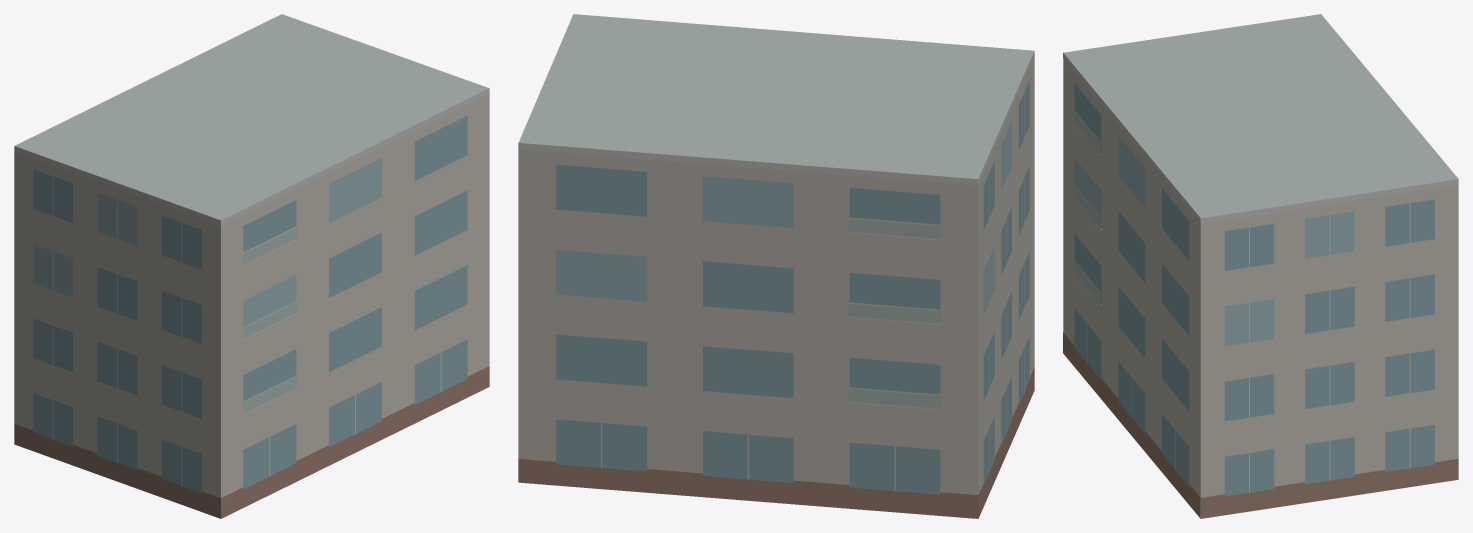
File: survey-upis-32799319.glb
3 views of the same model, side by side, from view 1: azimuth 30°, elevation 25°; view 2: azimuth 150°, elevation 25°; view 3: azimuth 270°, elevation 25° (orthographic). The views are drawn at different scales.
Visible parts, largest first — view 1: survey-upis-32799319.tmp; view 2: survey-upis-32799319.tmp; view 3: survey-upis-32799319.tmp.
Part boxes in pixels (bbox=[...]): survey-upis-32799319.tmp: bbox=[14, 14, 489, 518]; survey-upis-32799319.tmp: bbox=[518, 14, 1034, 518]; survey-upis-32799319.tmp: bbox=[1063, 14, 1458, 518].
Bounding box in the file's own units: 18.81 × 12.9 × 15.39.
